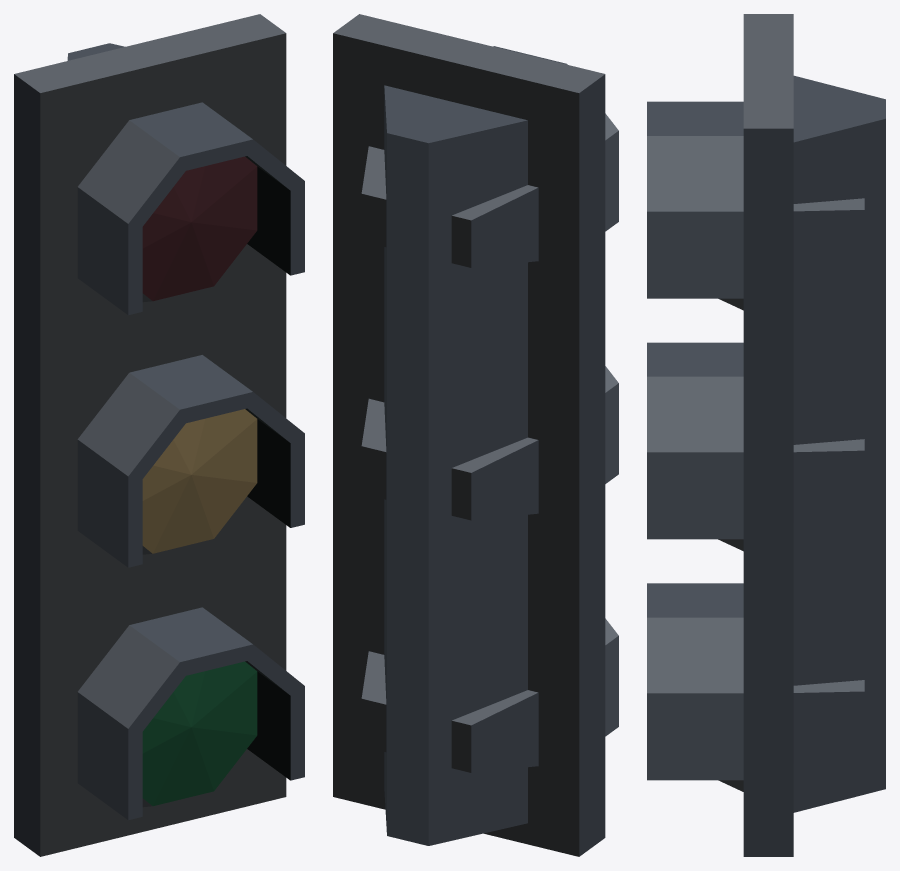
Rendered from TB_CITY_Prop_TrafficLight_B_Black.FBX.
3 renders of one model, left to right at view 1: azimuth 30°, elevation 25°; view 2: azimuth 150°, elevation 25°; view 3: azimuth 270°, elevation 25°, orthographic. The views are drawn at different scales.
Visible parts, largest first — view 1: TB_CITY_Prop_TrafficLight_B_Black; view 2: TB_CITY_Prop_TrafficLight_B_Black; view 3: TB_CITY_Prop_TrafficLight_B_Black.
Part boxes in pixels (x1,y1,x2,y2): TB_CITY_Prop_TrafficLight_B_Black: (14,14,304,856); TB_CITY_Prop_TrafficLight_B_Black: (333,14,618,856); TB_CITY_Prop_TrafficLight_B_Black: (647,14,885,856).
Size of the model in its own units: 1.03 by 3.04 by 0.9038.
